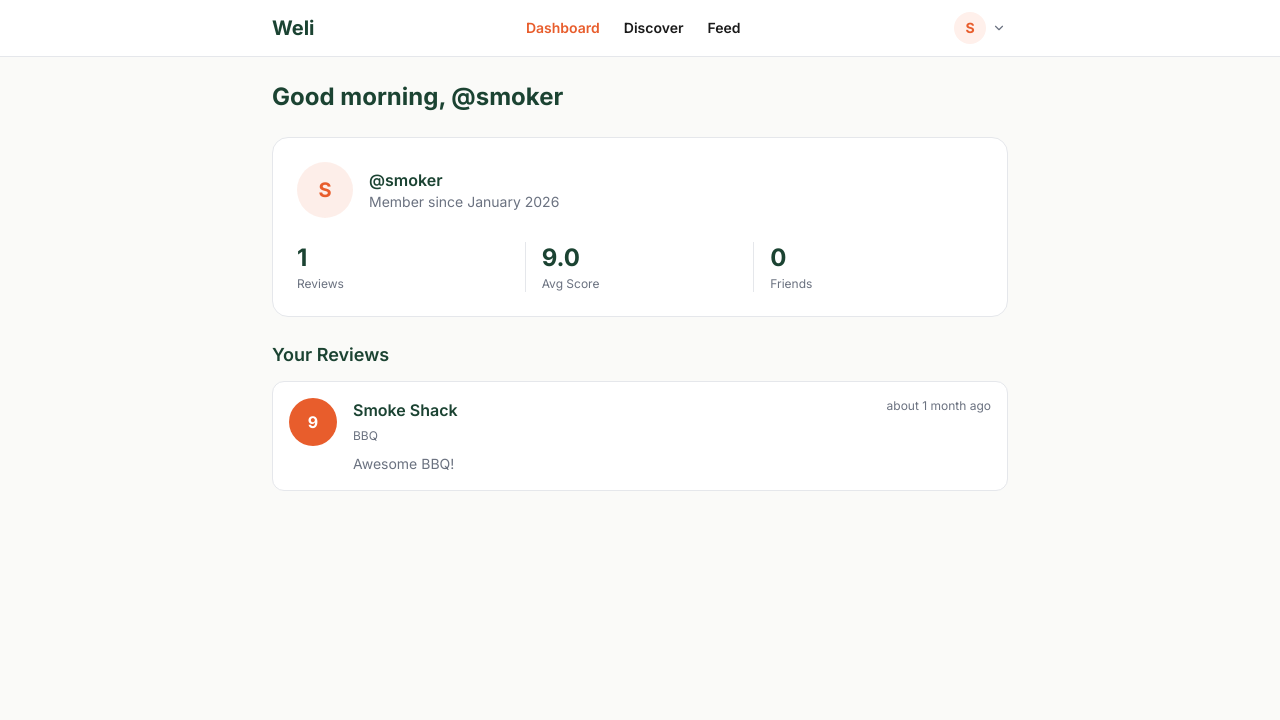
Scenario: T-064 — Complete user flow smoke tests › Step 9: Sign out › sign out navigates to the login page
This screenshot has width=1280, height=720.
Step 1. Click the button named "user menu" → (980, 28), box left=952, top=10, right=1008, bottom=46
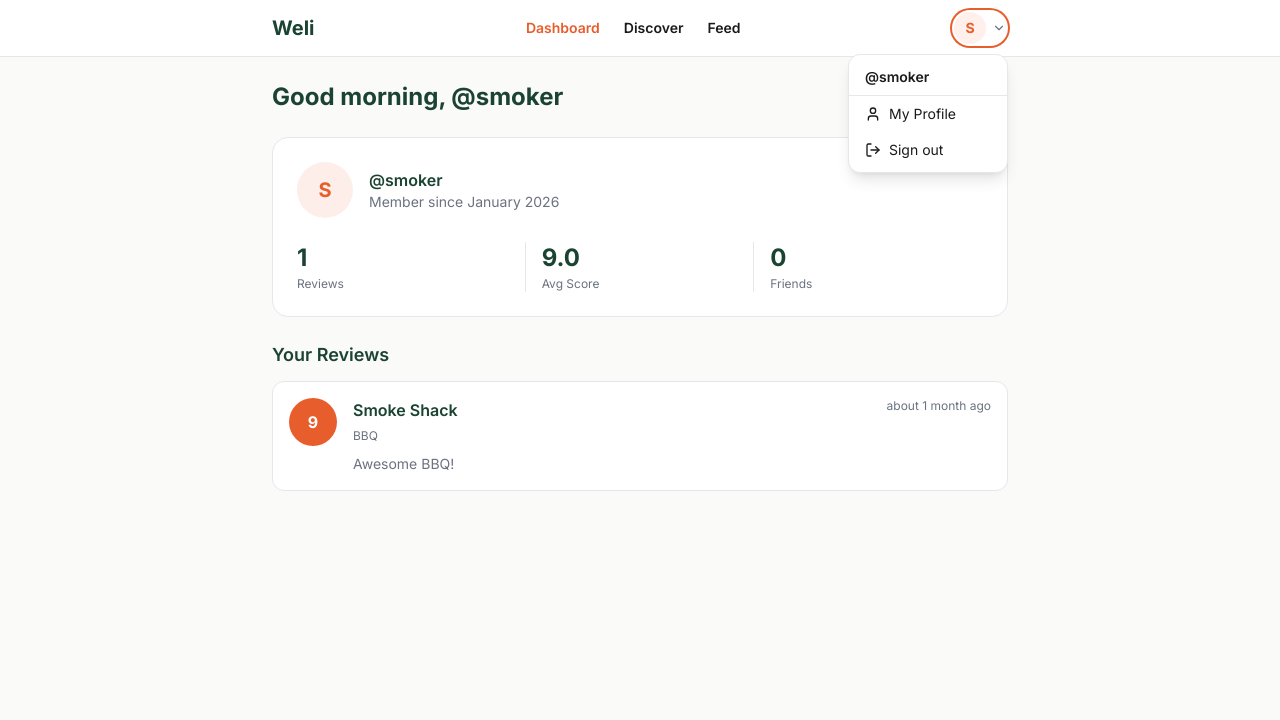
Step 2. Click the menu item "Sign out" → (928, 150), box left=849, top=132, right=1007, bottom=168
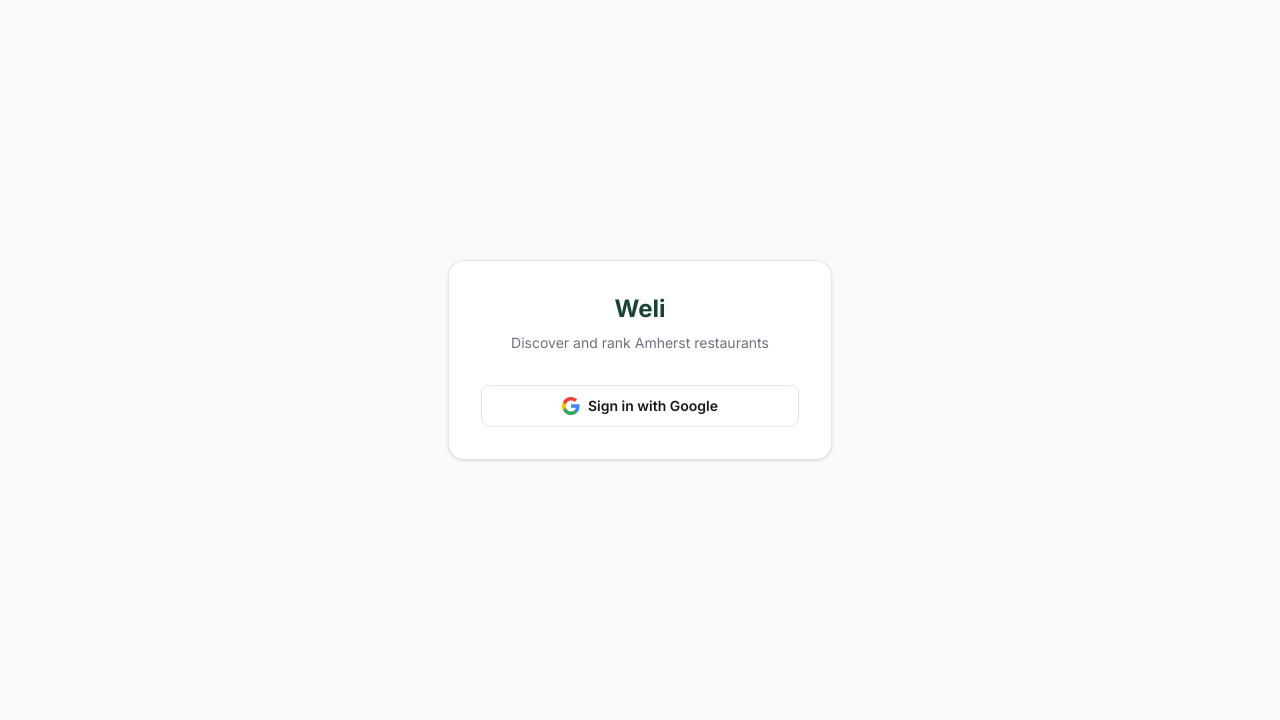
Expected: the button "Sign in with Google" is shown, left=481, top=385, right=799, bottom=427
